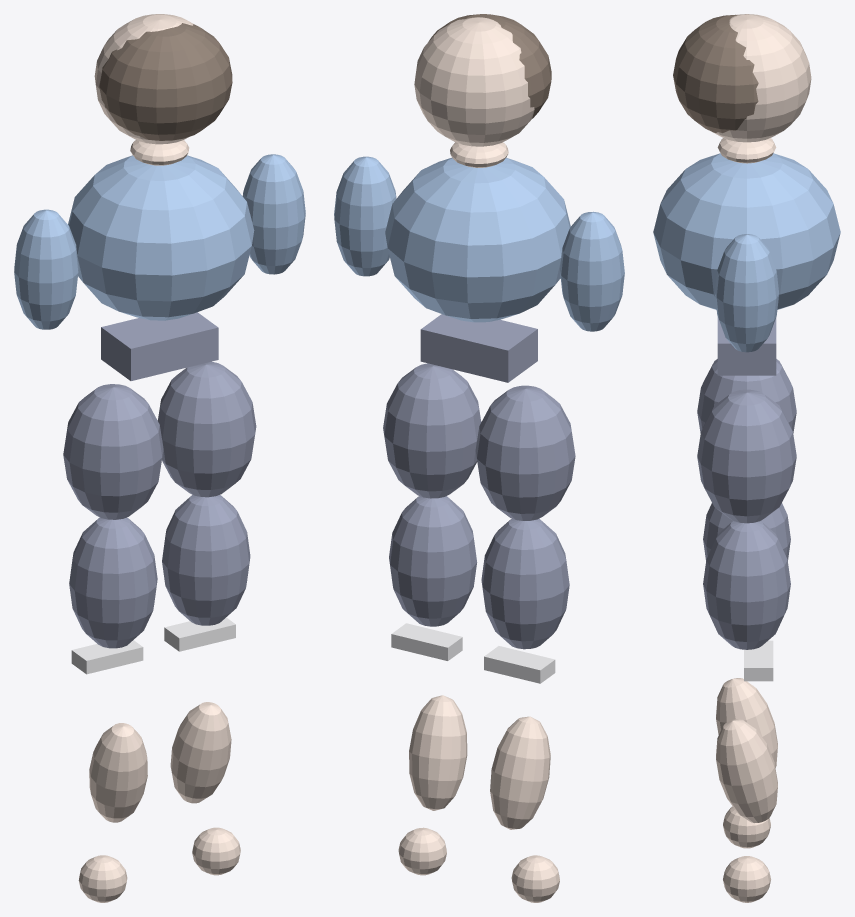
The model's file is human.glb.
3 renders of one model, left to right at view 1: azimuth 30°, elevation 25°; view 2: azimuth 150°, elevation 25°; view 3: azimuth 270°, elevation 25°, orthographic.
Parts seen in each view (by area): view 1: Torso, Hair, LegUpper_L, LegUpper_R, LegLower_L, LegLower_R, ArmUpper_L, Pelvis, ArmUpper_R, ArmLower_R, ArmLower_L, Head (+5 smaller); view 2: Torso, Head, LegUpper_L, LegUpper_R, LegLower_R, LegLower_L, ArmUpper_L, Pelvis, ArmUpper_R, ArmLower_R, ArmLower_L, Hair (+5 smaller); view 3: Torso, LegUpper_R, LegLower_R, Hair, Head, ArmUpper_R, ArmLower_R, LegUpper_L, ArmLower_L, Pelvis, Hand_R, LegLower_L (+3 smaller).
Part boxes in pixels (x1,y1,x2,y2): Torso: [68, 155, 254, 320]; Hair: [99, 23, 232, 140]; LegUpper_L: [63, 384, 163, 519]; LegUpper_R: [157, 361, 256, 497]; LegLower_L: [69, 517, 157, 648]; LegLower_R: [162, 495, 250, 625]; ArmUpper_L: [14, 209, 78, 329]; Pelvis: [101, 312, 218, 380]; ArmUpper_R: [242, 154, 305, 274]; ArmLower_R: [170, 702, 231, 803]; ArmLower_L: [89, 723, 147, 822]; Head: [94, 14, 193, 144]; Torso: [385, 157, 570, 322]; Head: [414, 17, 534, 146]; LegUpper_L: [475, 385, 575, 520]; LegUpper_R: [383, 363, 481, 498]; LegLower_R: [389, 496, 477, 626]; LegLower_L: [481, 518, 569, 649]; ArmUpper_L: [560, 211, 624, 331]; Pelvis: [420, 314, 537, 382]; ArmUpper_R: [334, 156, 396, 276]; ArmLower_R: [409, 695, 467, 810]; ArmLower_L: [490, 716, 550, 829]; Hair: [428, 14, 551, 118]; Torso: [653, 153, 840, 309]; LegUpper_R: [697, 389, 796, 523]; LegLower_R: [703, 521, 790, 649]; Hair: [673, 14, 758, 133]; Head: [713, 14, 811, 142]; ArmUpper_R: [714, 234, 779, 352]; ArmLower_R: [716, 719, 777, 822]; LegUpper_L: [697, 359, 796, 432]; ArmLower_L: [716, 678, 777, 767]; Pelvis: [717, 317, 776, 375]; Hand_R: [723, 856, 770, 902]; LegLower_L: [703, 503, 790, 560].
Bounding box in the file's own units: 0.6912 × 2.02 × 0.4022.
